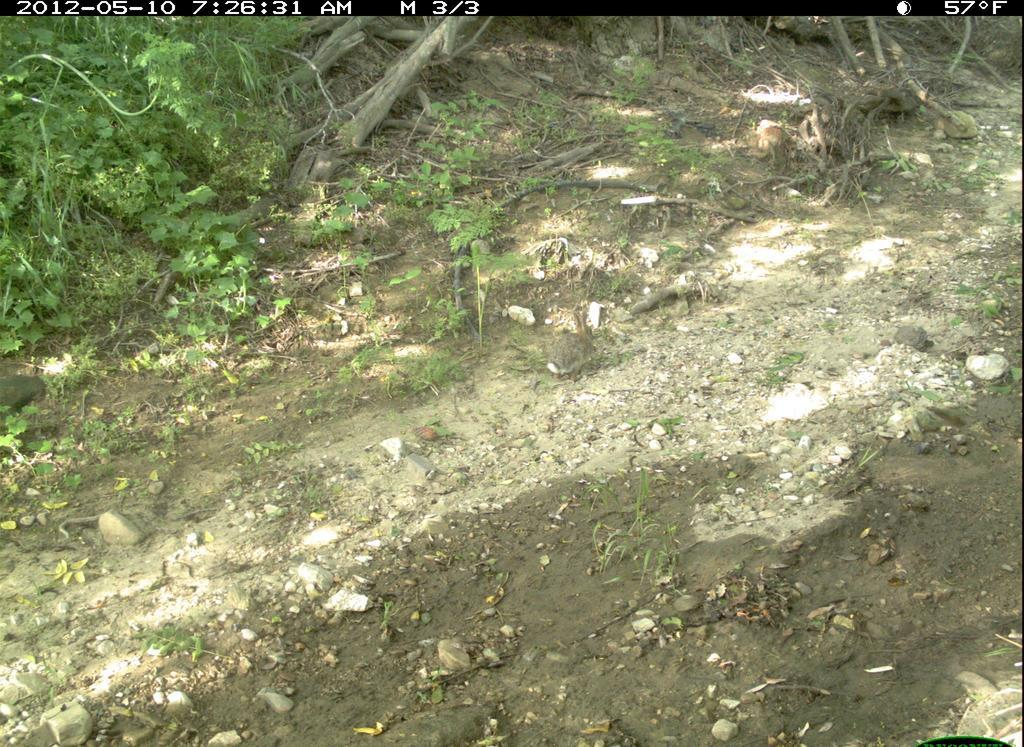rabbit: (530, 304, 609, 396)
